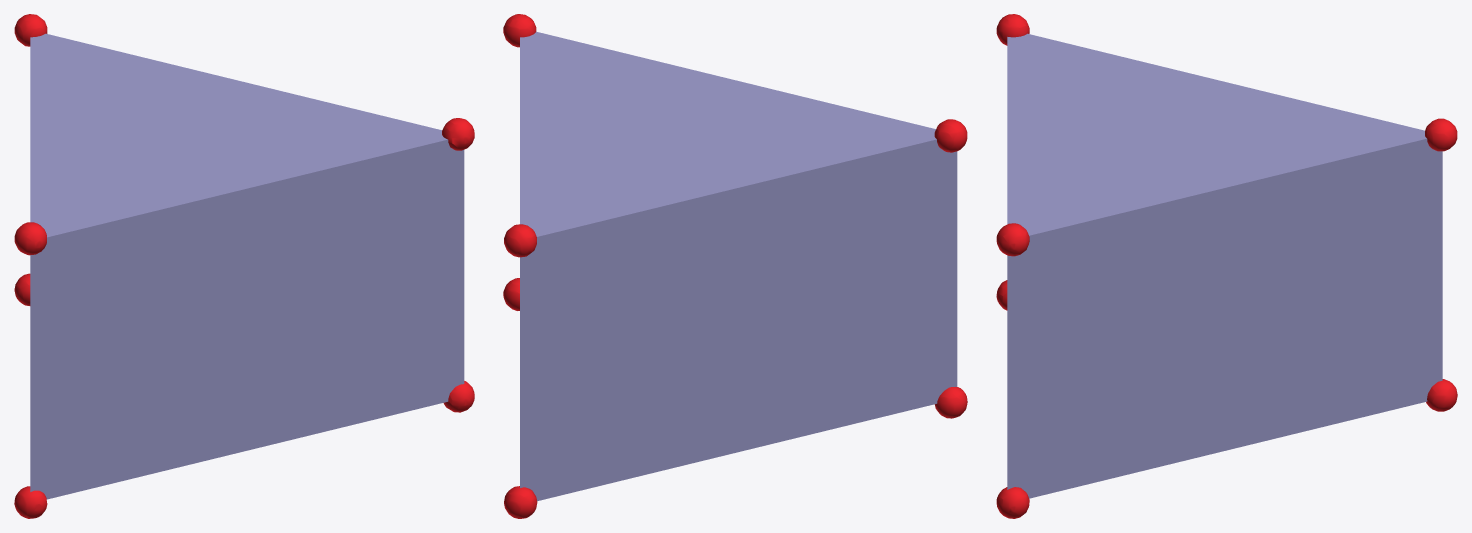
3 views of the same model, side by side, from view 1: azimuth 30°, elevation 25°; view 2: azimuth 150°, elevation 25°; view 3: azimuth 270°, elevation 25° (orthographic).
Parts seen in each view (by area): view 1: 三角柱, 頂點.006; view 2: 三角柱, 頂點.006; view 3: 三角柱, 頂點.006.
Boxes of the visible parts, x1,y1,x2,y2 form: 三角柱: [30, 33, 464, 499]; 頂點.006: [14, 14, 474, 518]; 三角柱: [520, 31, 957, 500]; 頂點.006: [503, 14, 967, 518]; 三角柱: [1007, 33, 1442, 498]; 頂點.006: [996, 14, 1457, 518].
Bounding box in the file's own units: 1.82 × 1.12 × 1.59.
